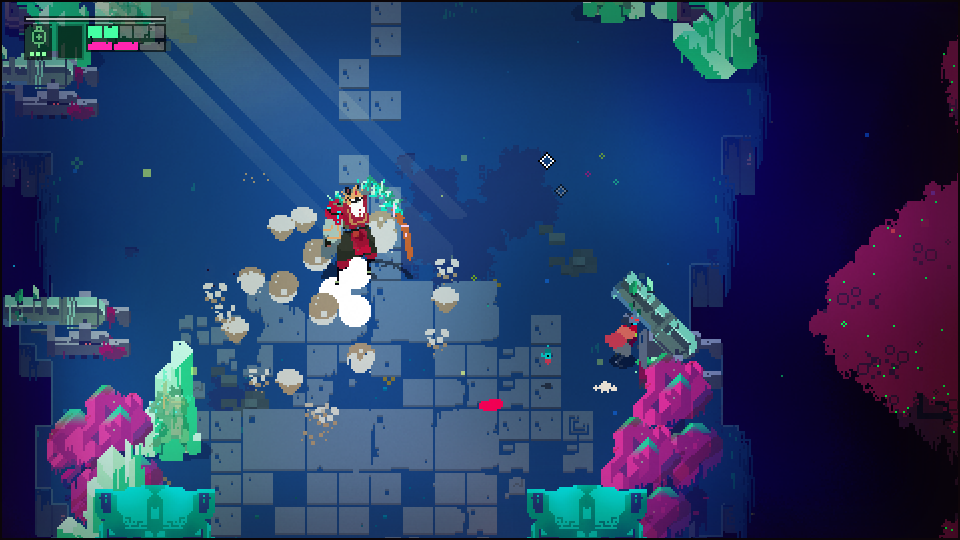hanged_man: (321, 174, 413, 272)
player: (601, 312, 642, 364)
